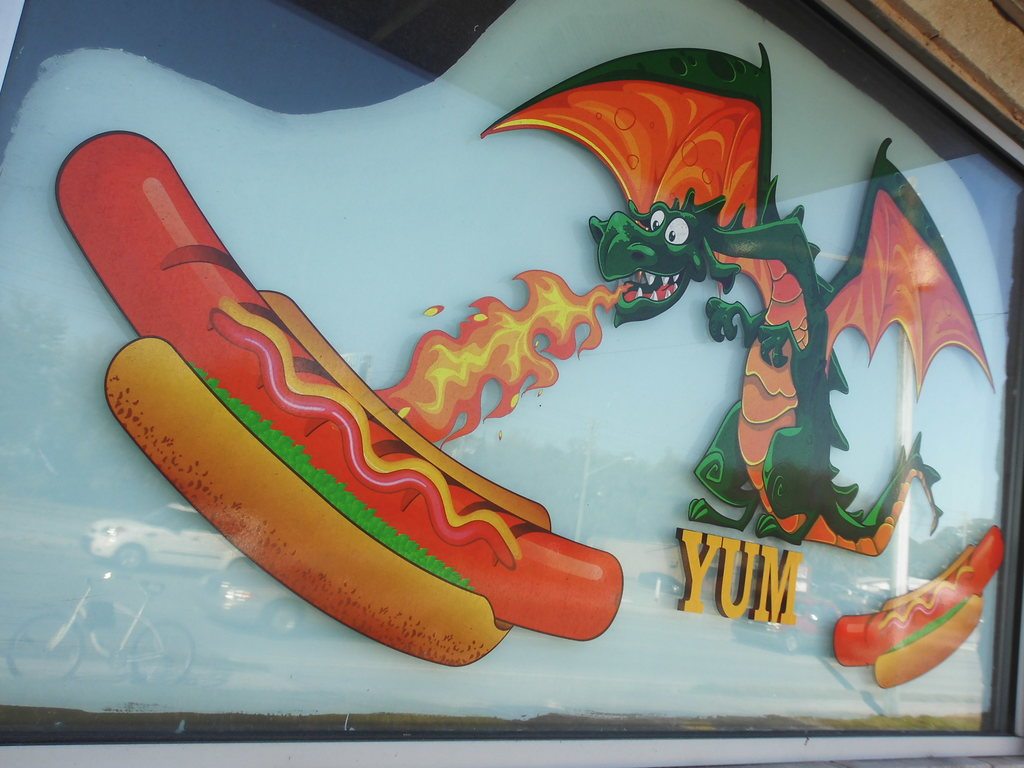hot_dog: (52, 121, 621, 667)
